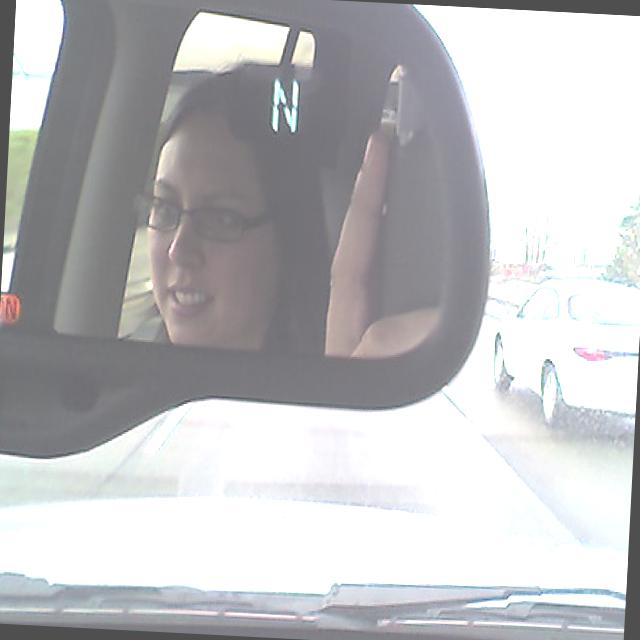Vehicle: (487, 271, 640, 435)
